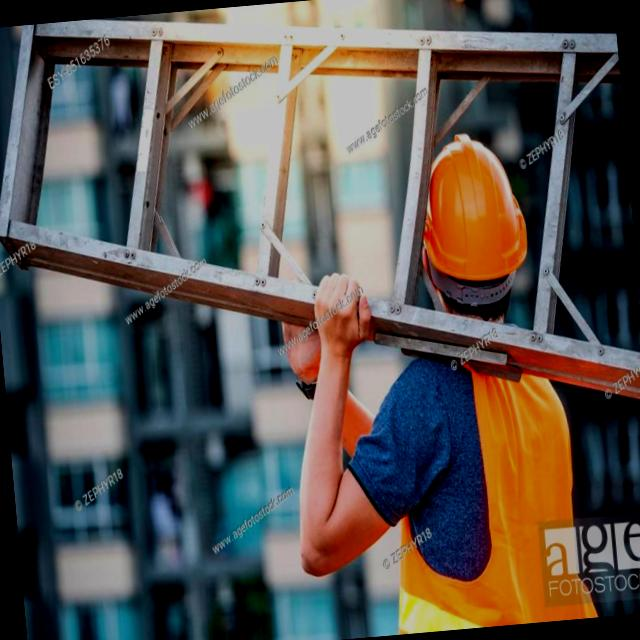helmet: (384, 125, 546, 337)
vest: (346, 318, 593, 636)
